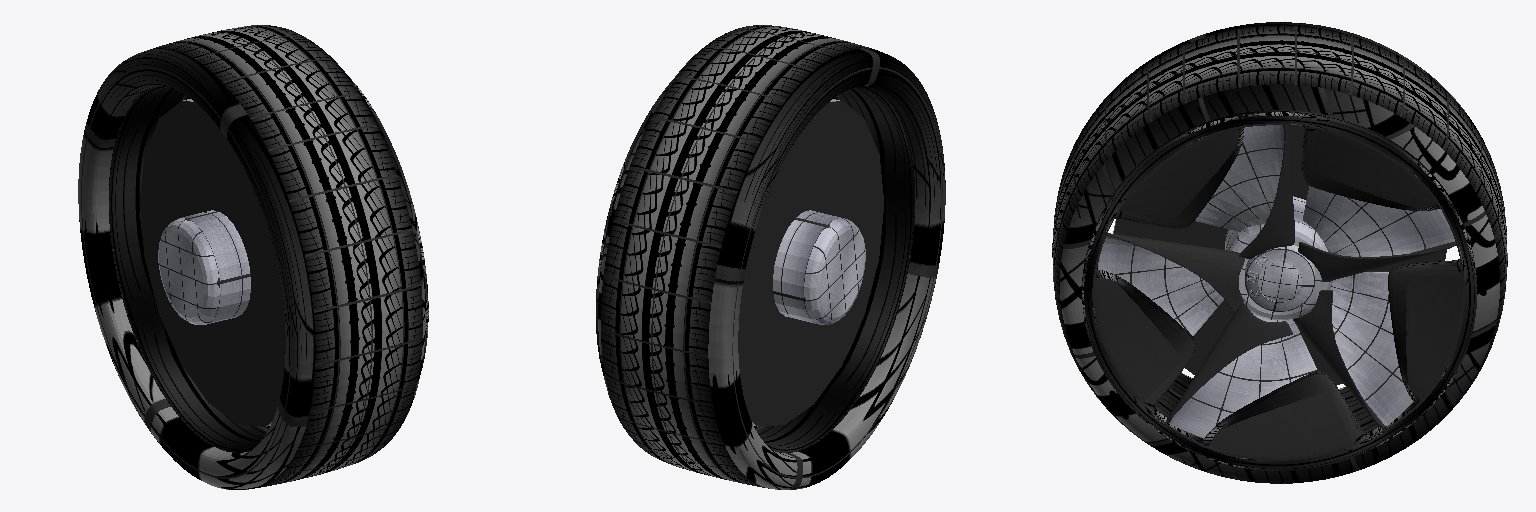
3 views of the same model, side by side, from view 1: azimuth 30°, elevation 25°; view 2: azimuth 150°, elevation 25°; view 3: azimuth 270°, elevation 25° (orthographic).
Visible parts, largest first — view 1: Torus01, Cylinder03, Tube16, ChamferCyl08; view 2: Torus01, Cylinder03, Tube16, ChamferCyl08; view 3: Torus01, Tube16, Plane34, Plane33, Plane35, Plane32, Plane36, Cylinder03, OilTank04, ChamferCyl08.
Part boxes in pixels (x1,y1,x2,y2): Torus01: (78,25,425,489); Cylinder03: (140,99,285,426); Tube16: (110,77,428,452); ChamferCyl08: (158,210,250,324); Torus01: (598,25,945,489); Cylinder03: (738,99,883,426); Tube16: (596,81,913,452); ChamferCyl08: (773,210,865,324); Torus01: (1052,22,1507,483); Tube16: (1082,110,1476,470); Plane34: (1293,271,1413,428); Plane33: (1166,303,1317,438); Plane35: (1298,186,1456,281); Plane32: (1097,233,1244,335); Plane36: (1195,125,1294,258); Cylinder03: (1113,125,1446,385); OilTank04: (1245,245,1314,311); ChamferCyl08: (1225,196,1332,319).
Size of the model in its own units: 0.7232 by 1.92 by 1.92.
2 materials, 2 textured.